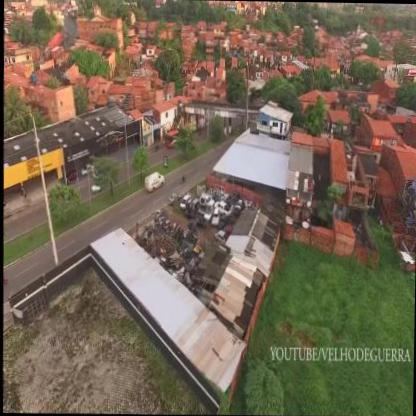lixo: (148, 222, 200, 285), (186, 189, 235, 231)
